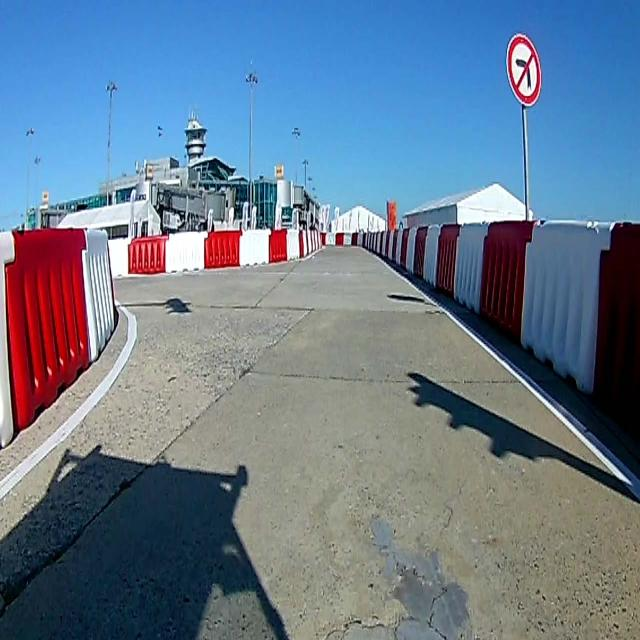soladonulmez: (505, 34, 542, 102)
